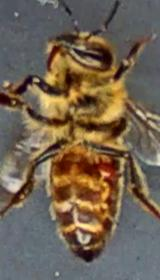varroa_mite: (94, 156, 125, 186)
